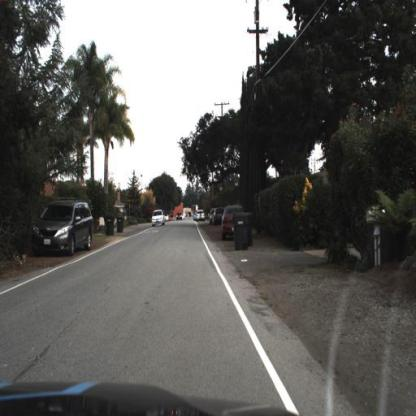car: (32, 195, 95, 260), (222, 206, 247, 241), (223, 205, 246, 236), (151, 209, 166, 231), (152, 209, 166, 226), (197, 209, 207, 224)
